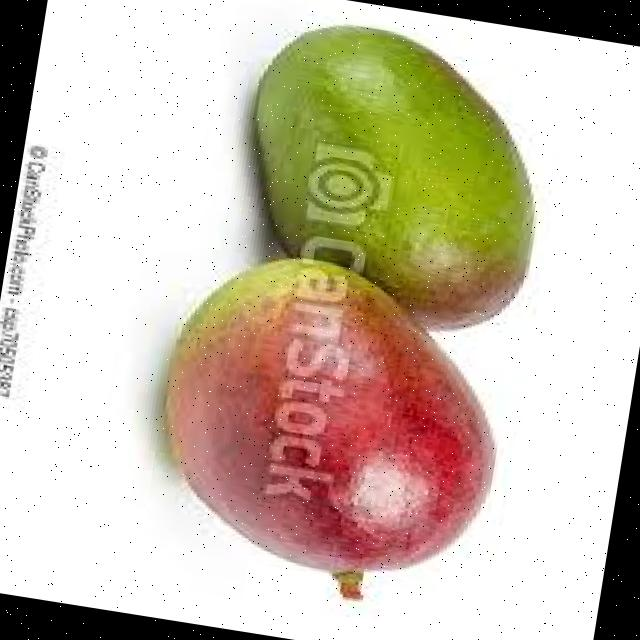mango: (157, 255, 496, 579)
